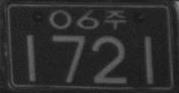0: (48, 8, 72, 29)
1: (134, 36, 163, 84), (16, 34, 44, 82)
2: (92, 34, 127, 84)
6: (75, 8, 100, 30)
7: (52, 34, 86, 83)
주: (104, 9, 126, 30)
